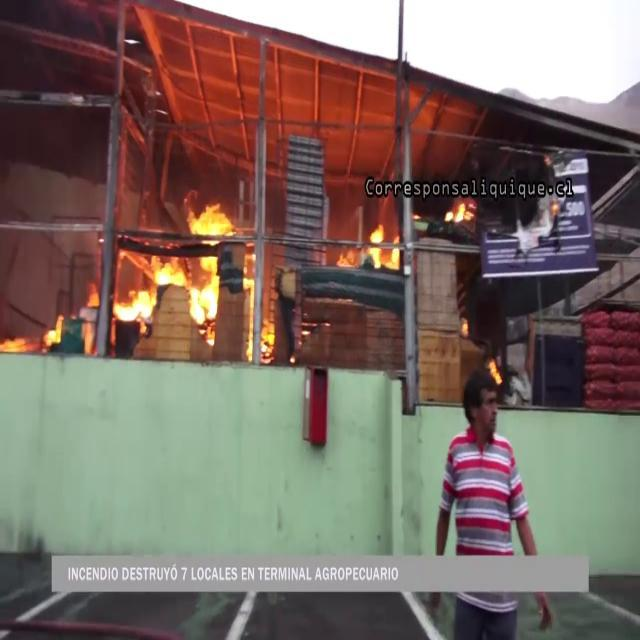Fire: (112, 201, 240, 339), (359, 216, 402, 272), (442, 196, 476, 228)
